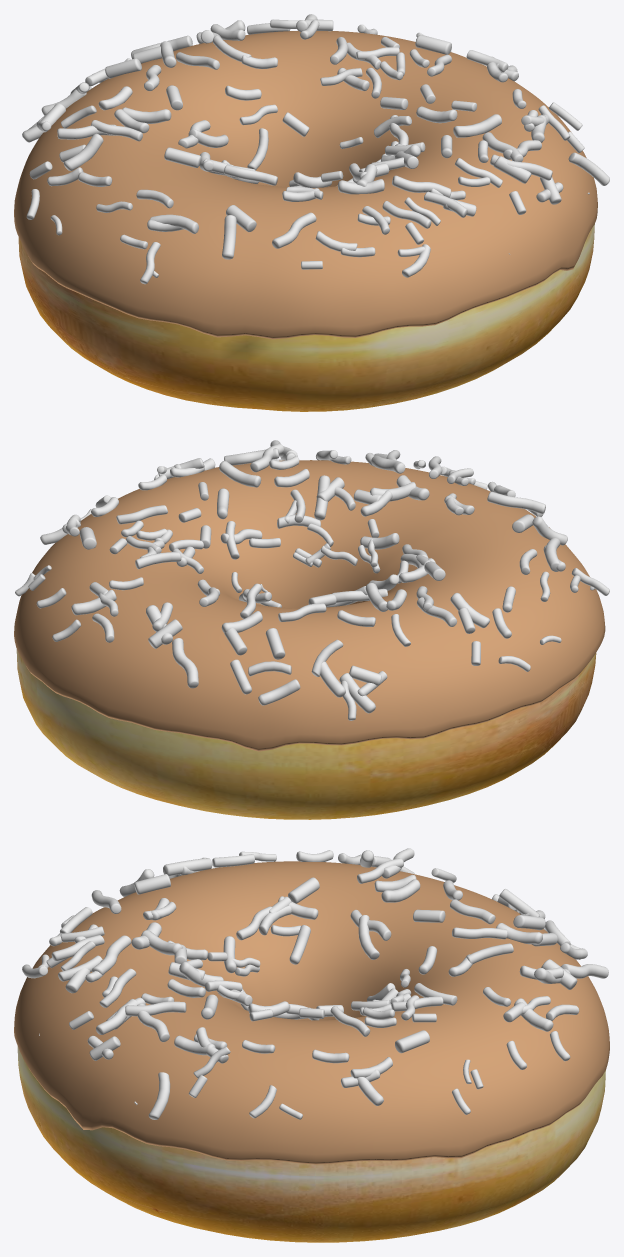
Rendered from light white vermicheli.glb.
3 renders of one model, top to bottom at view 1: azimuth 30°, elevation 25°; view 2: azimuth 150°, elevation 25°; view 3: azimuth 270°, elevation 25°, orthographic. The views are drawn at different scales.
Parts seen in each view (by area): view 1: chocolate.004, white Ver, Torus; view 2: chocolate.004, Torus, white Ver; view 3: chocolate.004, Torus, white Ver.
Part boxes in pixels (bbox=[...]): chocolate.004: bbox=[14, 31, 597, 339]; white Ver: bbox=[22, 14, 609, 284]; Torus: bbox=[18, 224, 594, 411]; chocolate.004: bbox=[14, 460, 605, 751]; Torus: bbox=[16, 649, 596, 819]; white Ver: bbox=[15, 440, 609, 720]; chocolate.004: bbox=[14, 861, 609, 1164]; Torus: bbox=[17, 1046, 605, 1242]; white Ver: bbox=[22, 848, 608, 1119].
Size of the model in its own units: 0.1988 by 0.0785 by 0.1971.
Materials: 3 (1 with a texture image).
